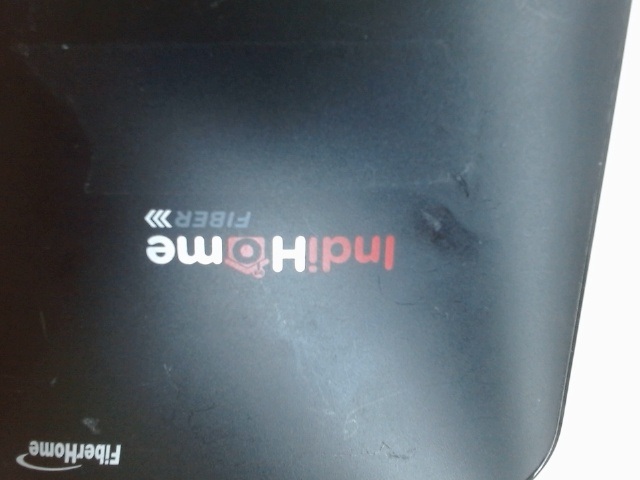AF_IndiHome: (131, 203, 410, 291)
